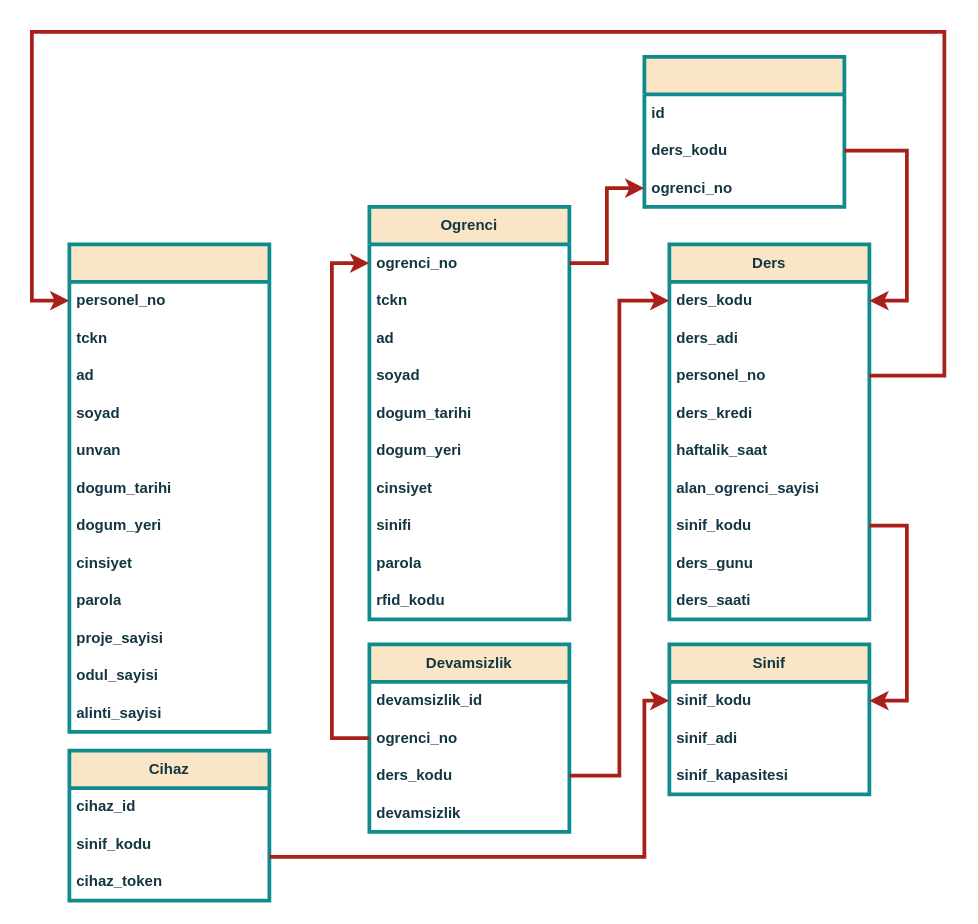
The diagram is 978 pixels wide and 924 high, and some of its shapes have lost their labels. Here are the shapes that lost their labels. From the top down, the box of each, then its label:
(642, 54, 846, 208): DersOgrencileri
(67, 242, 271, 733): Akademisyen
